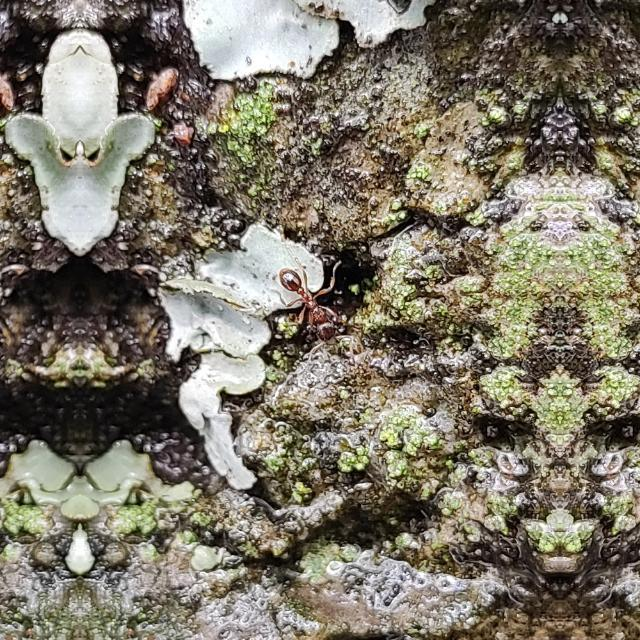Myrmica: (272, 257, 346, 349)
